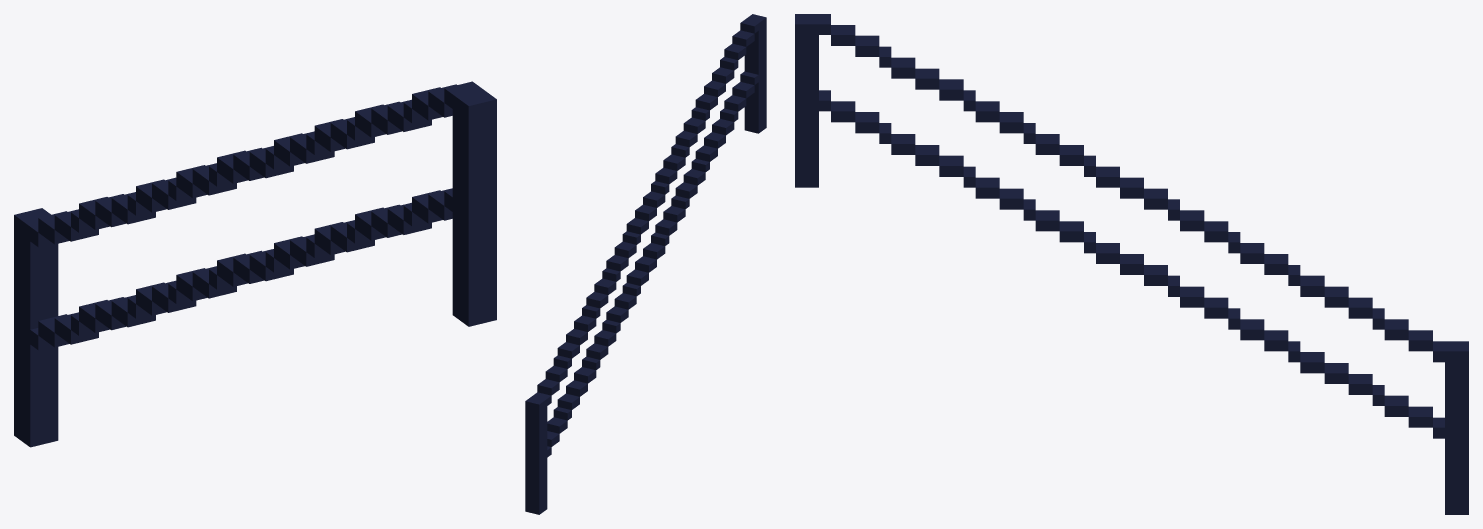
Rendered from porecz.dae.
3 views of the same model, side by side, from view 1: azimuth 30°, elevation 25°; view 2: azimuth 150°, elevation 25°; view 3: azimuth 270°, elevation 25° (orthographic). The views are drawn at different scales.
Visible parts, largest first — view 1: Content; view 2: Content; view 3: Content.
Boxes of the visible parts, bbox=[...] form: Content: bbox=[14, 81, 496, 447]; Content: bbox=[525, 14, 766, 514]; Content: bbox=[795, 14, 1468, 514].
Bounding box in the file's own units: 2 × 45 × 56.
1 material, 1 textured.
